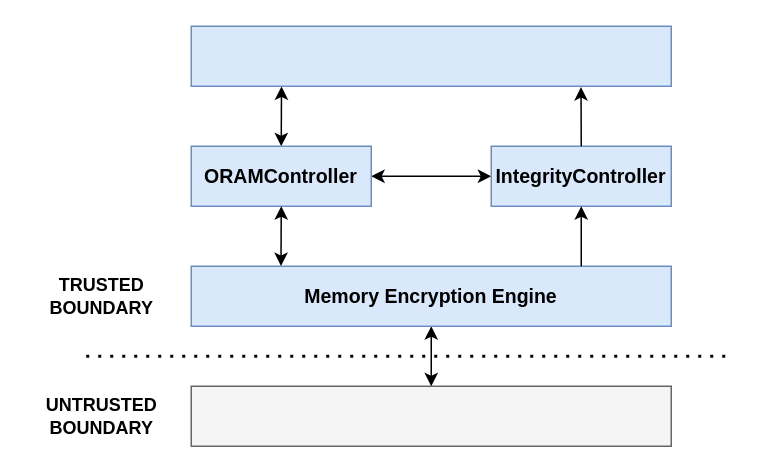
Some shapes in this 761 by 473 pixel diagram are drawn without their labels. The box of each missing label's shape, as (x1, y1, x2, y2) in pixels:
DRAMController: (190, 385, 671, 446)
PathORAMSystem: (190, 25, 671, 86)
